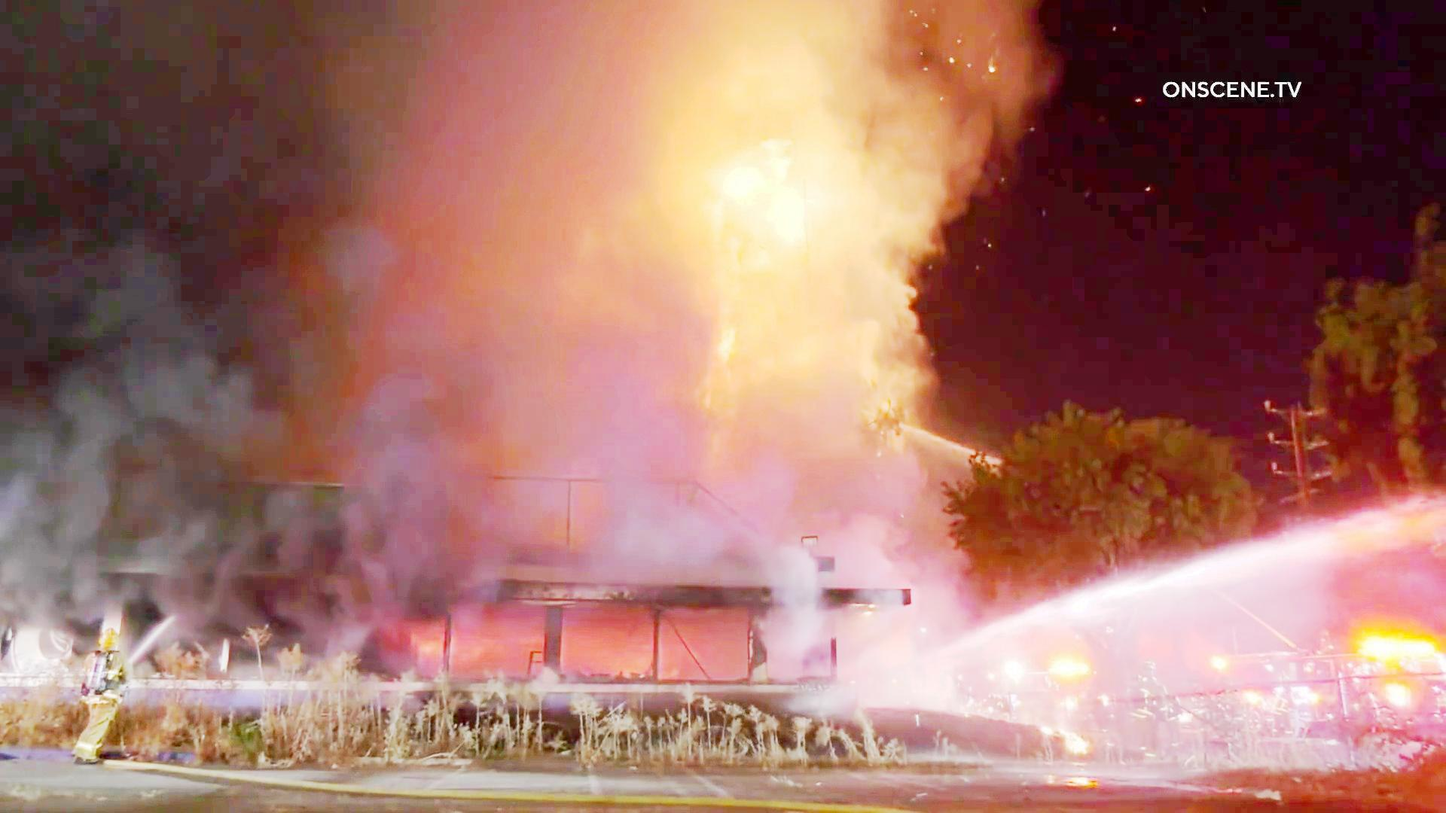fire: (715, 129, 831, 276)
smoke: (24, 2, 652, 559), (0, 219, 296, 627), (296, 333, 567, 643)
